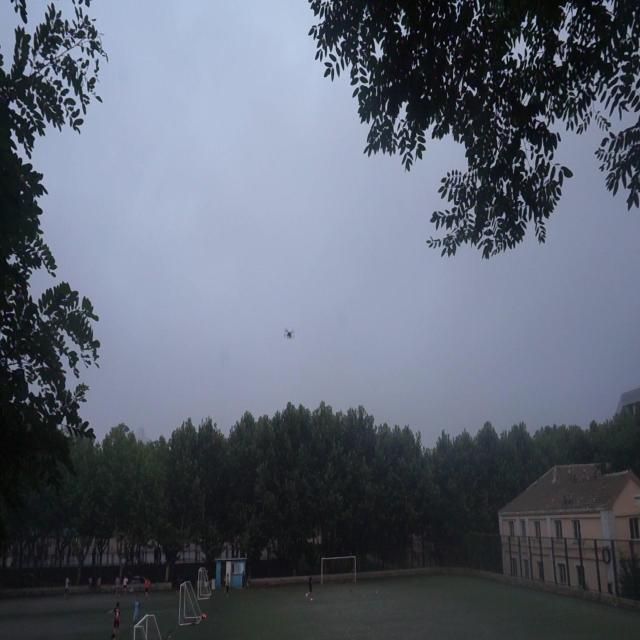drone: (282, 325, 294, 340)
